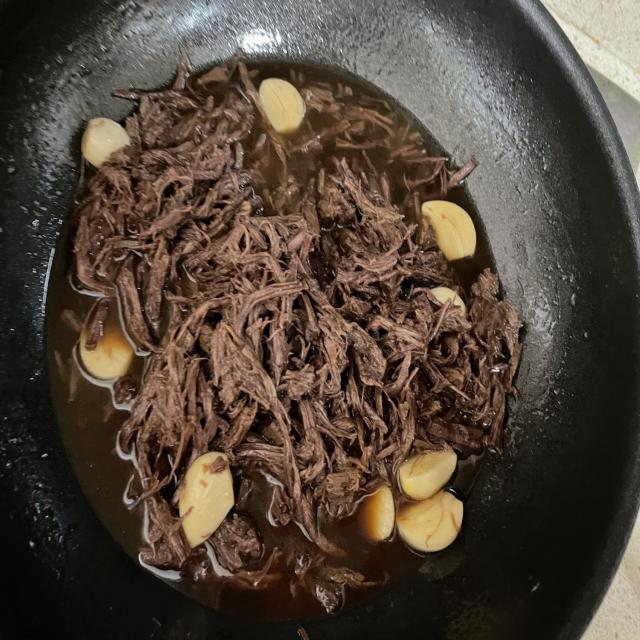carne de res: (25, 56, 519, 614)
